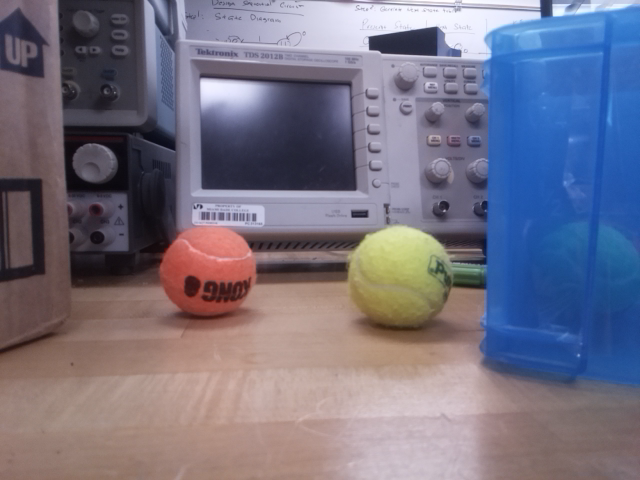orange-ball: (157, 224, 257, 319)
yellow-ball: (345, 223, 455, 330)
